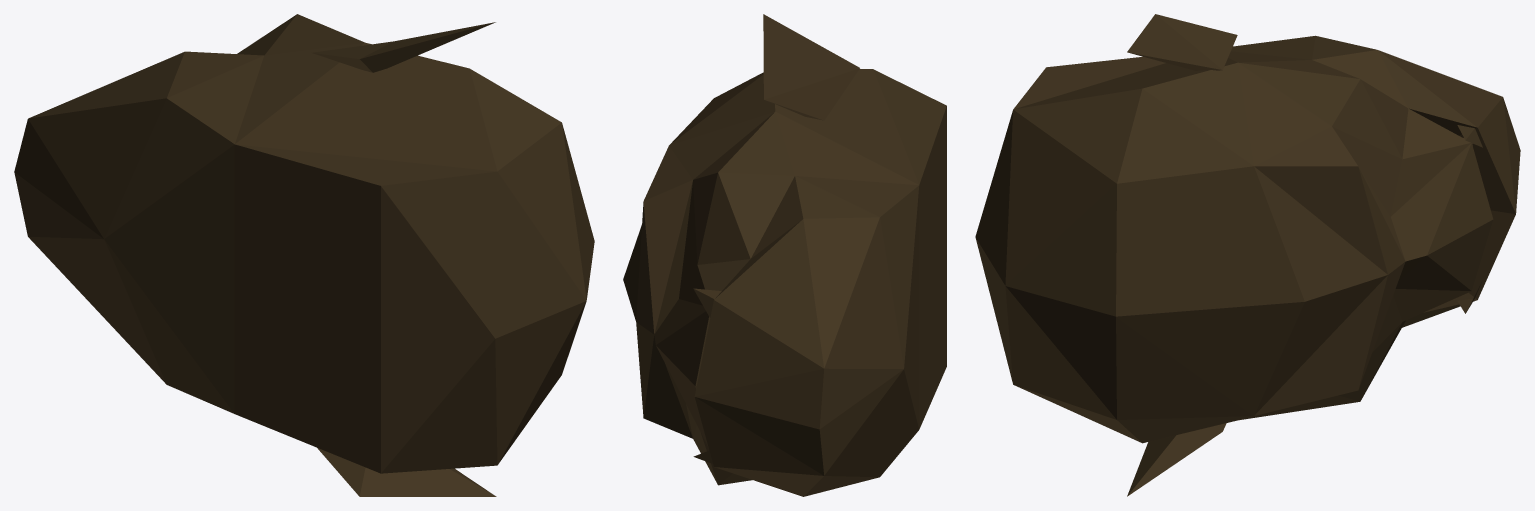
Rendered from ORC_HEADWARRIOR.OBJ.
The picture shows the model from 3 angles, left to right: view 1: azimuth 30°, elevation 25°; view 2: azimuth 150°, elevation 25°; view 3: azimuth 270°, elevation 25°; orthographic projection. The views are drawn at different scales.
Parts seen in each view (by area): view 1: ORC_HEADWARRIOR; view 2: ORC_HEADWARRIOR; view 3: ORC_HEADWARRIOR.
Boxes of the visible parts, x1,y1,x2,y2 form: ORC_HEADWARRIOR: (14, 14, 594, 496); ORC_HEADWARRIOR: (623, 14, 946, 496); ORC_HEADWARRIOR: (975, 14, 1520, 496).
Bounding box in the file's own units: 0.3505 × 0.4349 × 0.4833.
